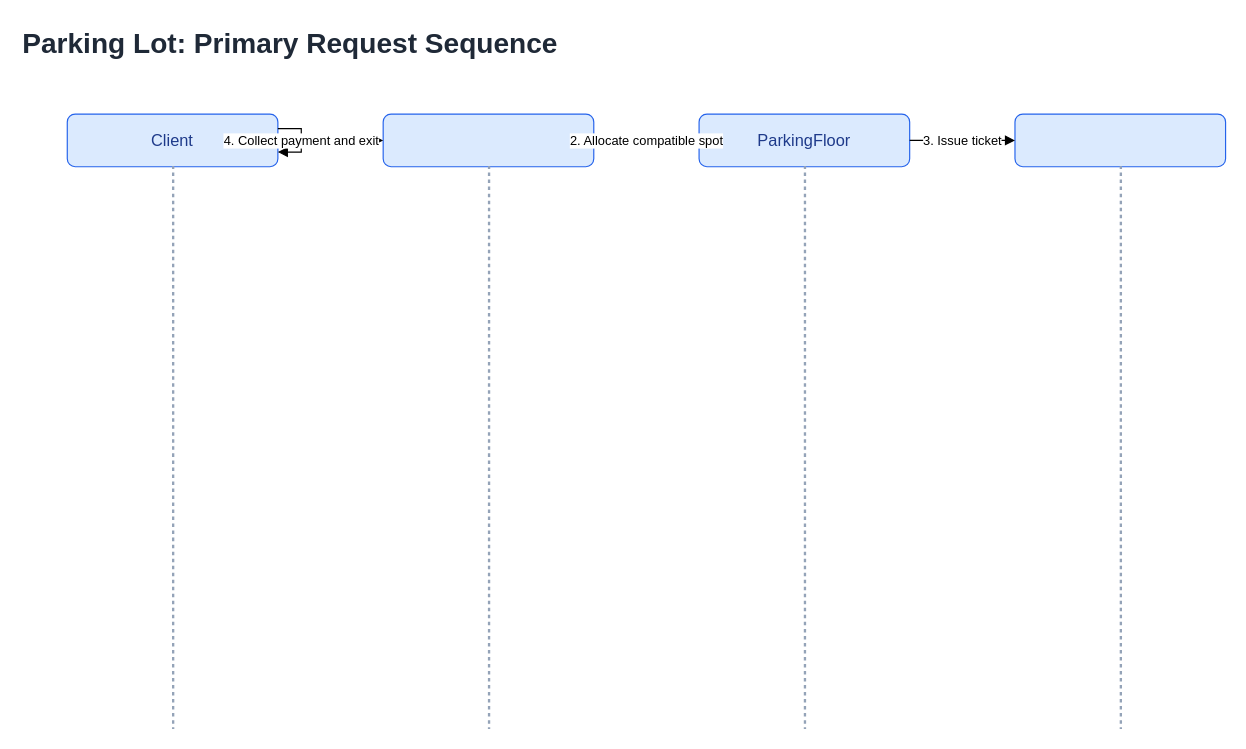
This 1246x749 diagram has some shape labels left out. Here are the shapes that lost their labels. From the top down, the centre of each, then its label:
At (488,140): "ParkingLot".
At (1120,140): "ParkingSpot".
